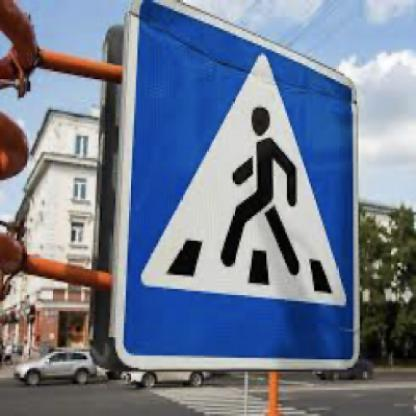crosswalk: (114, 0, 359, 368)
